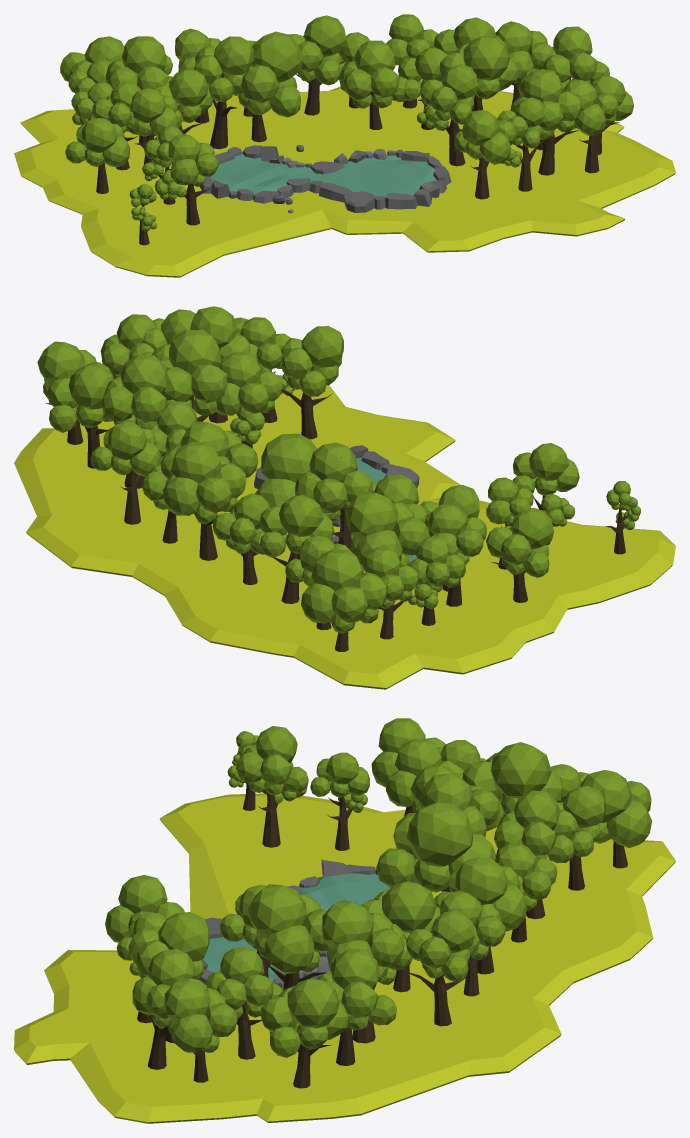
The model's file is ambientePez2Estanques.fbx.
3 views of the same model, one above another, from view 1: azimuth 30°, elevation 25°; view 2: azimuth 150°, elevation 25°; view 3: azimuth 270°, elevation 25° (orthographic). The views are drawn at different scales.
Visible parts, largest first — view 1: Plane.001, piedra9.002, piedra9.001, hojas4.069, hojas4.077, hojas4.078, hojas4.055, hojas4.068, hojas4.083, hojas4.067, hojas4.085, hojas4.063 (+30 smaller); view 2: Plane.001, hojas4.072, hojas4.055, hojas4.078, hojas4.067, hojas4.054, hojas4.068, hojas4.085, hojas4.063, hojas4.079, hojas4.050, hojas4.051 (+25 smaller); view 3: Plane.001, hojas4.069, hojas4.078, hojas4.080, hojas4.067, hojas4.081, hojas4.054, hojas4.079, hojas4.050, hojas4.072, hojas4.075, hojas4.060 (+27 smaller).
Boxes of the visible parts, x1=… form: Plane.001: x1=14, y1=79, x2=675, y2=277; piedra9.002: x1=301, y1=148, x2=451, y2=212; piedra9.001: x1=200, y1=145, x2=317, y2=203; hojas4.069: x1=222, y1=31, x2=303, y2=117; hojas4.077: x1=339, y1=40, x2=407, y2=108; hojas4.078: x1=440, y1=36, x2=517, y2=99; hojas4.055: x1=288, y1=15, x2=346, y2=85; hojas4.068: x1=194, y1=36, x2=254, y2=101; hojas4.083: x1=511, y1=69, x2=582, y2=139; hojas4.067: x1=106, y1=36, x2=172, y2=89; hojas4.085: x1=453, y1=110, x2=516, y2=164; hojas4.063: x1=65, y1=118, x2=130, y2=167; Plane.001: x1=14, y1=385, x2=675, y2=689; hojas4.072: x1=301, y1=548, x2=386, y2=633; hojas4.055: x1=163, y1=442, x2=246, y2=524; hojas4.078: x1=160, y1=329, x2=226, y2=416; hojas4.067: x1=345, y1=491, x2=429, y2=565; hojas4.054: x1=101, y1=354, x2=174, y2=429; hojas4.068: x1=295, y1=442, x2=376, y2=521; hojas4.085: x1=281, y1=326, x2=343, y2=396; hojas4.063: x1=486, y1=507, x2=554, y2=577; hojas4.079: x1=47, y1=364, x2=113, y2=432; hojas4.050: x1=259, y1=495, x2=334, y2=557; hojas4.051: x1=216, y1=351, x2=282, y2=420; Plane.001: x1=14, y1=793, x2=675, y2=1123; hojas4.069: x1=376, y1=802, x2=495, y2=892; hojas4.078: x1=247, y1=884, x2=328, y2=973; hojas4.080: x1=261, y1=978, x2=347, y2=1057; hojas4.067: x1=462, y1=742, x2=562, y2=831; hojas4.081: x1=164, y1=979, x2=237, y2=1052; hojas4.054: x1=321, y1=900, x2=404, y2=982; hojas4.079: x1=317, y1=948, x2=396, y2=1030; hojas4.050: x1=494, y1=790, x2=574, y2=863; hojas4.072: x1=581, y1=770, x2=651, y2=847; hojas4.075: x1=406, y1=910, x2=474, y2=982; hojas4.060: x1=236, y1=726, x2=308, y2=795.
Size of the model in its own units: 111 by 23.99 by 94.04.
